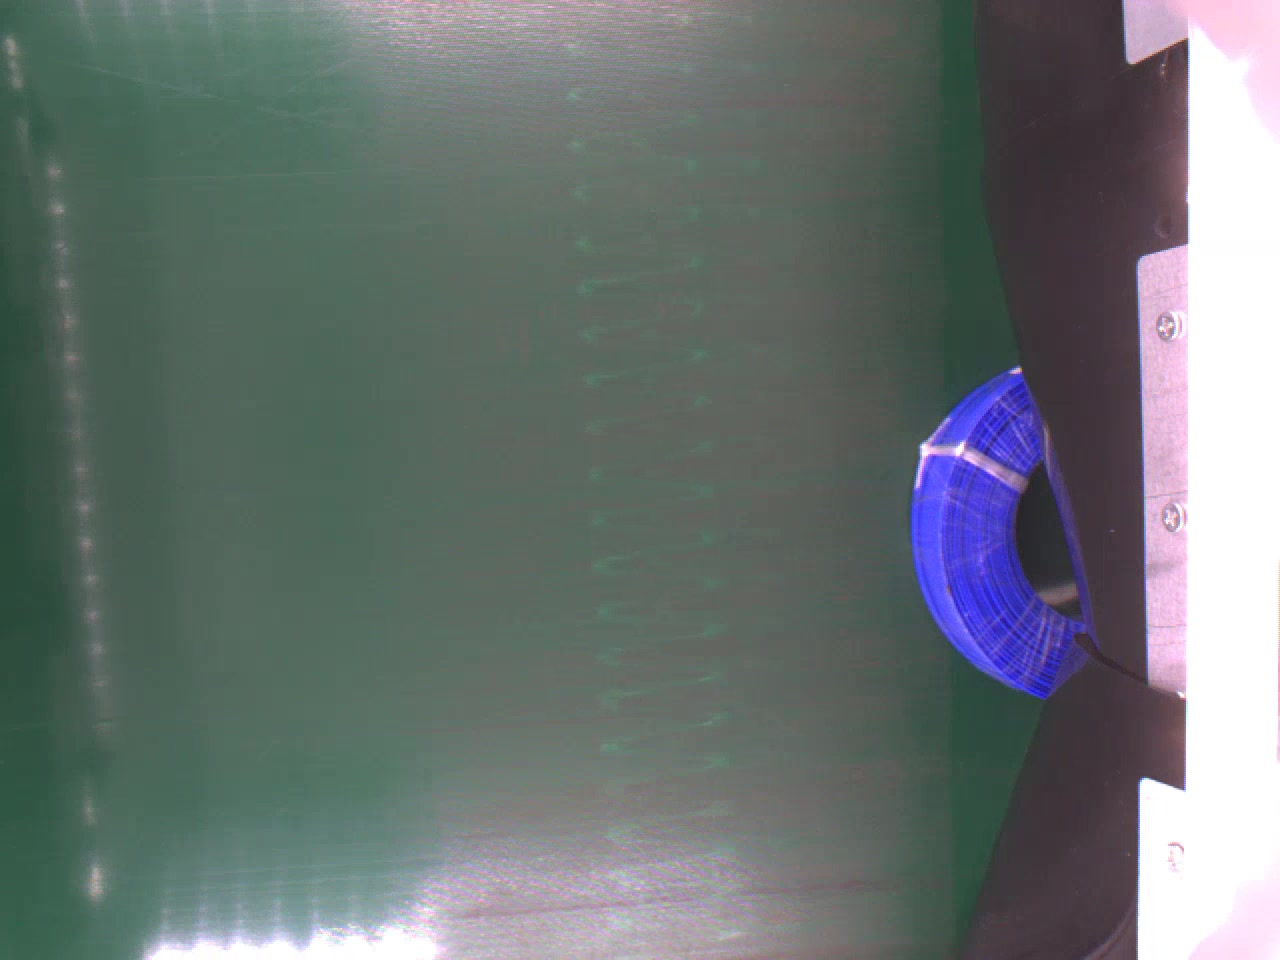blue: (911, 363, 1079, 698)
